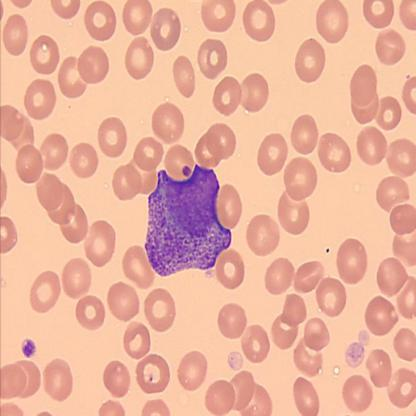Myelocyte: (144, 163, 232, 275)
